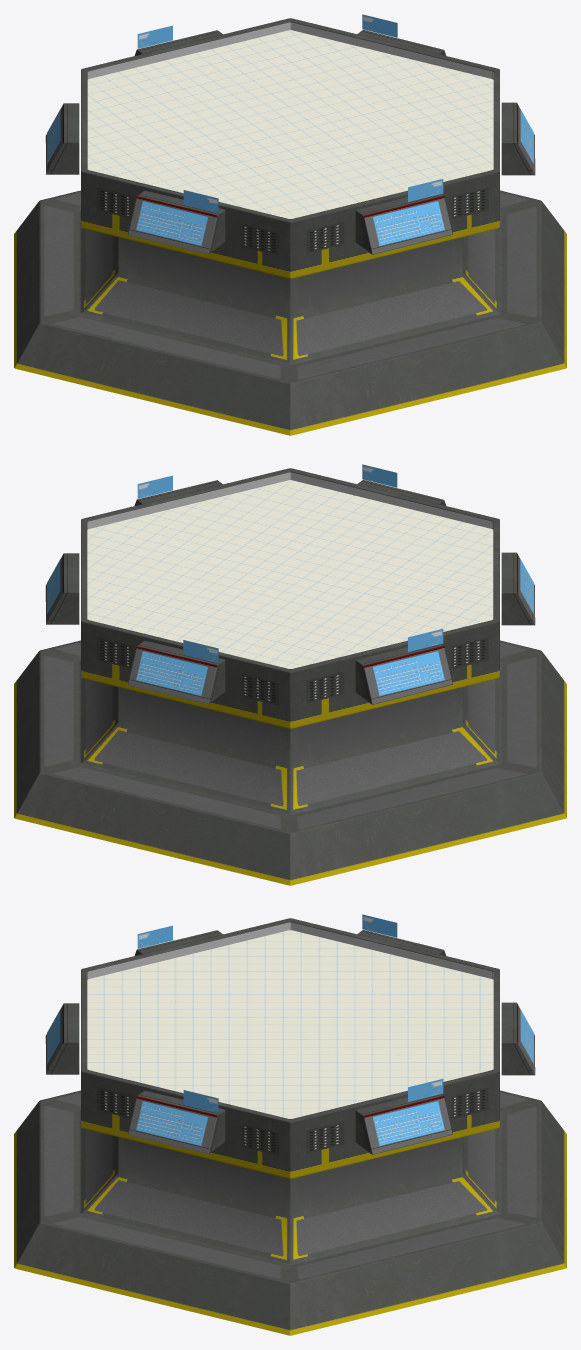
File: Table.fbx
3 renders of one model, top to bottom at view 1: azimuth 30°, elevation 25°; view 2: azimuth 150°, elevation 25°; view 3: azimuth 270°, elevation 25°, orthographic.
Visible parts, largest first — view 1: smFUT0110025; view 2: smFUT0110025; view 3: smFUT0110025.
Boxes of the visible parts, x1,y1,x2,y2 form: smFUT0110025: [14, 14, 566, 435]; smFUT0110025: [14, 464, 566, 885]; smFUT0110025: [14, 914, 566, 1335].
Size of the model in its own units: 287 by 96.76 by 249.
Materials: 1 (1 with a texture image).
